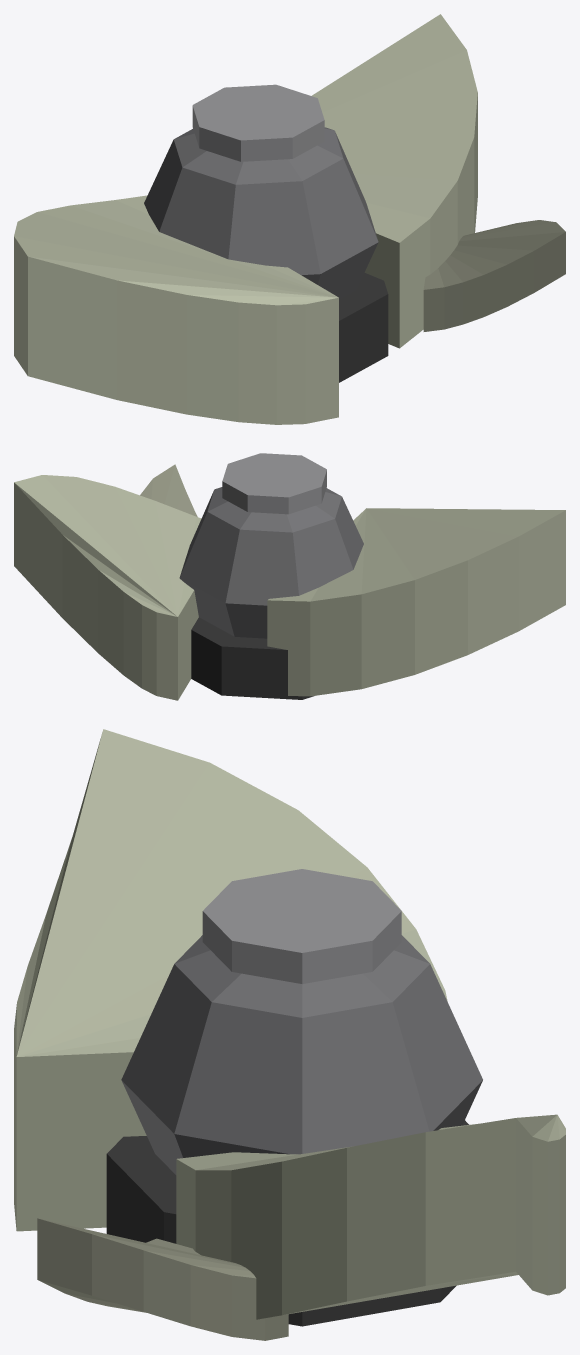
Rendered from exostrider_leg_b.obj.
The picture shows the model from 3 angles, top to bottom: view 1: azimuth 30°, elevation 25°; view 2: azimuth 150°, elevation 25°; view 3: azimuth 270°, elevation 25°; orthographic projection. The views are drawn at different scales.
Visible parts, largest first — view 1: exostrider_leg_b_0, exostrider_leg_b_4, exostrider_leg_b_2, exostrider_leg_b_5, exostrider_leg_b_3, exostrider_leg_b_1; view 2: exostrider_leg_b_0, exostrider_leg_b_4, exostrider_leg_b_2, exostrider_leg_b_1, exostrider_leg_b_3, exostrider_leg_b_5; view 3: exostrider_leg_b_0, exostrider_leg_b_4, exostrider_leg_b_2, exostrider_leg_b_3, exostrider_leg_b_5, exostrider_leg_b_1.
Part boxes in pixels (x1,y1,x2,y2): exostrider_leg_b_0: [14, 195, 338, 424]; exostrider_leg_b_4: [312, 14, 477, 348]; exostrider_leg_b_2: [144, 127, 378, 299]; exostrider_leg_b_5: [423, 220, 565, 331]; exostrider_leg_b_3: [192, 84, 324, 161]; exostrider_leg_b_1: [339, 272, 388, 382]; exostrider_leg_b_0: [267, 508, 565, 696]; exostrider_leg_b_4: [14, 475, 201, 700]; exostrider_leg_b_2: [179, 487, 363, 638]; exostrider_leg_b_1: [191, 617, 313, 699]; exostrider_leg_b_3: [222, 453, 326, 514]; exostrider_leg_b_5: [140, 464, 197, 516]; exostrider_leg_b_0: [14, 729, 447, 1231]; exostrider_leg_b_4: [176, 1114, 565, 1319]; exostrider_leg_b_2: [121, 935, 482, 1174]; exostrider_leg_b_3: [202, 869, 401, 983]; exostrider_leg_b_5: [37, 1218, 288, 1340]; exostrider_leg_b_1: [106, 1120, 468, 1326].
Size of the model in its own units: 1.65 by 0.6496 by 0.976.
